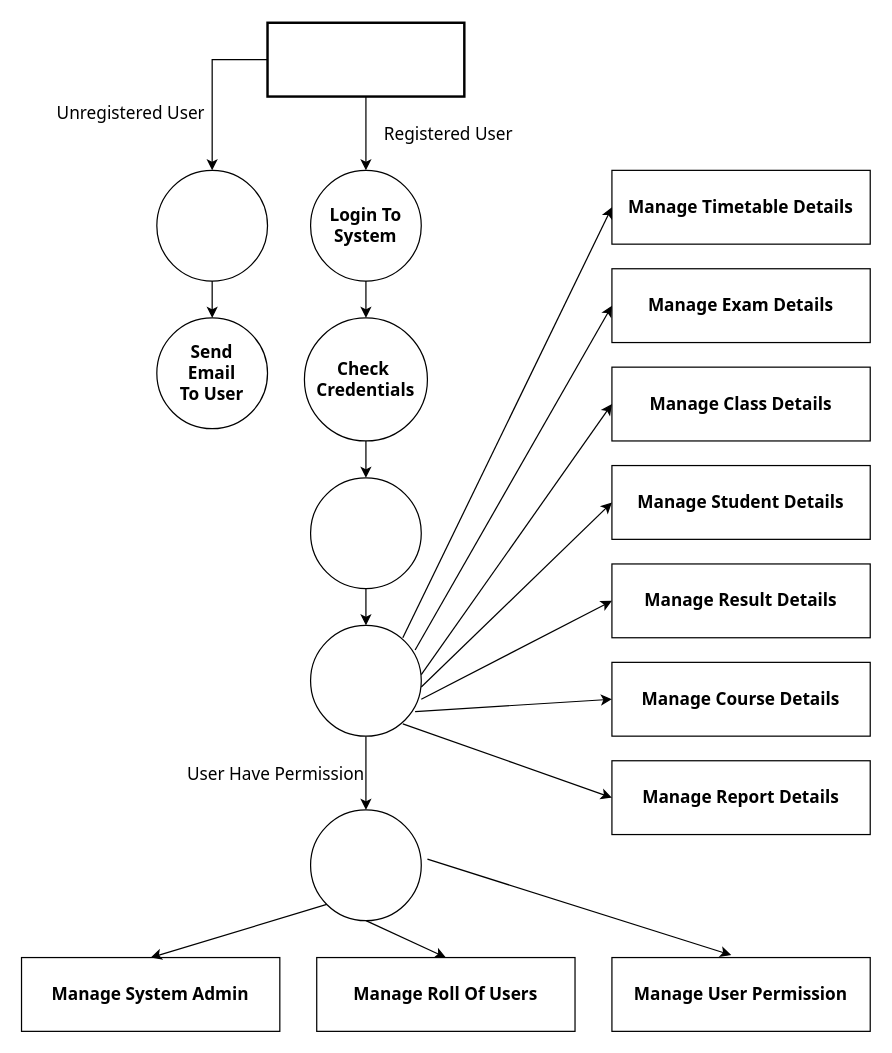
This 892x1053 diagram has some shape labels left out. Here are the shapes that lost their labels. From the top down, the centre of each, then its label:
the point at 365,59: Admin Panel
the point at 212,225: Forgot Password
the point at 365,533: Check Roll Of Access
the point at 365,680: Manage Modules
the point at 365,865: Manage System
